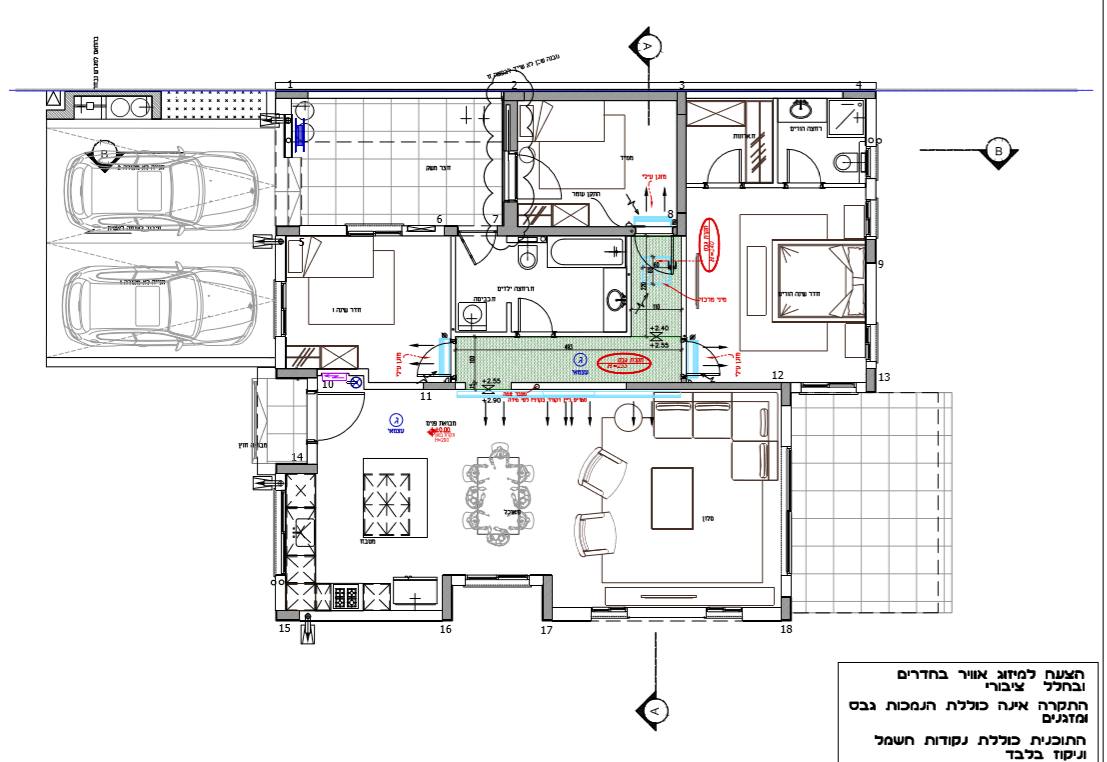door: (318, 389, 366, 443), (515, 292, 558, 327), (698, 146, 743, 179), (782, 146, 824, 178)
wall: (540, 92, 677, 98), (629, 383, 777, 388), (535, 229, 628, 234), (679, 116, 684, 206)
window: (463, 569, 533, 597), (344, 220, 403, 242), (271, 280, 290, 338), (801, 379, 858, 398), (706, 603, 743, 627), (861, 199, 883, 236), (591, 605, 629, 625), (864, 324, 880, 365), (864, 145, 880, 179)
